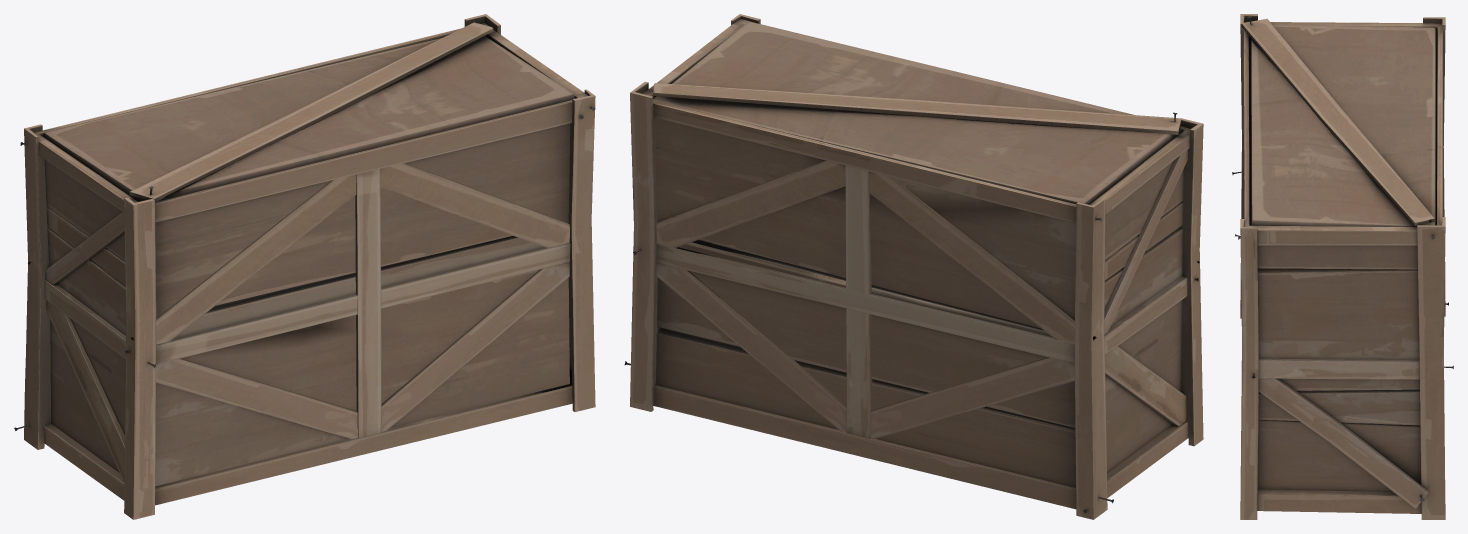
File: barrel_crate_02.glb
The picture shows the model from 3 angles, left to right: view 1: azimuth 30°, elevation 25°; view 2: azimuth 150°, elevation 25°; view 3: azimuth 270°, elevation 25°; orthographic projection. The views are drawn at different scales.
Parts seen in each view (by area): view 1: barrel_crate_02; view 2: barrel_crate_02; view 3: barrel_crate_02.
Part boxes in pixels (box(x1,y1,x2,y2)): barrel_crate_02: box(14, 14, 595, 519); barrel_crate_02: box(624, 14, 1203, 519); barrel_crate_02: box(1232, 14, 1453, 519).
Size of the model in its own units: 3.56 by 2.22 by 1.48.
1 material, 1 textured.
